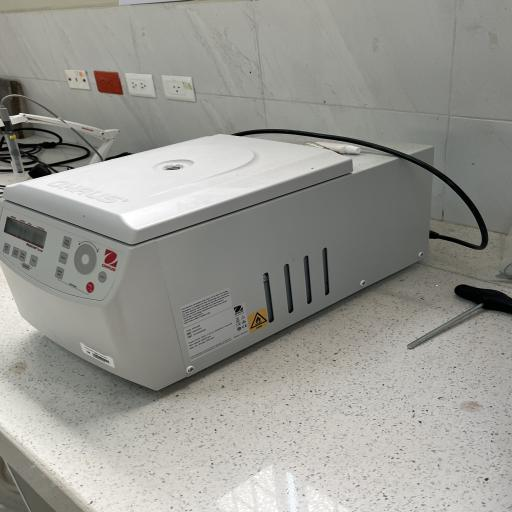Centrifuga_Ohaus_Frontier: (5, 122, 450, 395)
